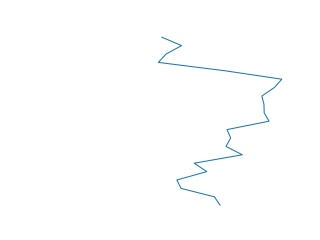floodPlain: (156, 36, 284, 208)
